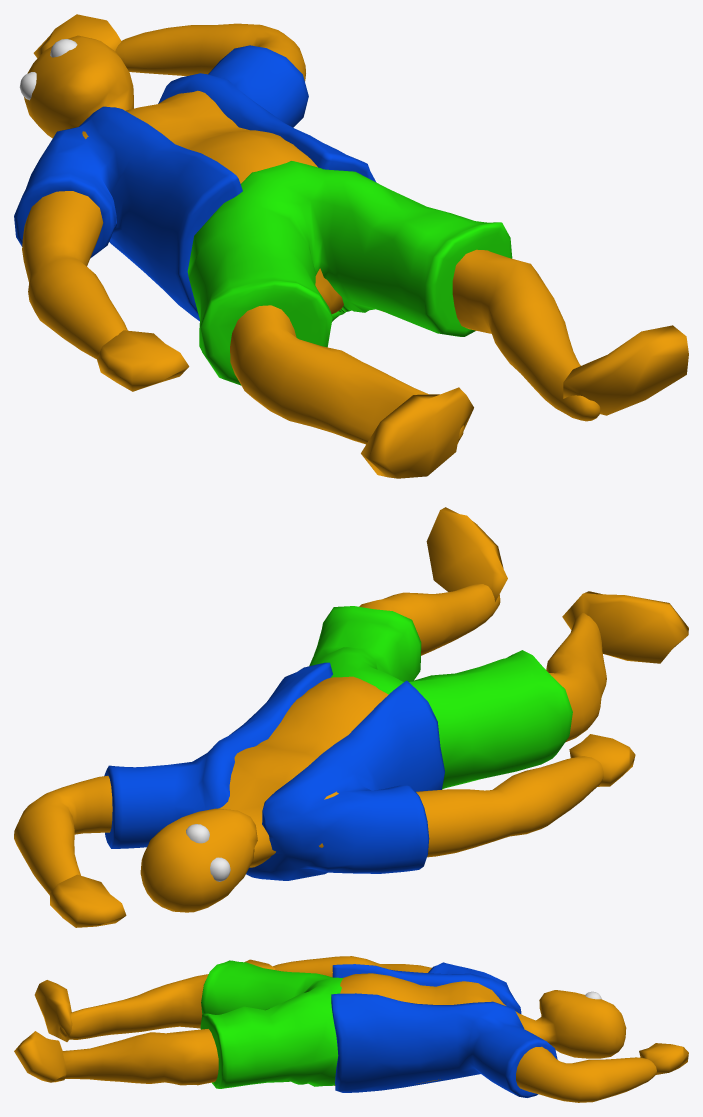
Rendered from cadavre.fbx.
The picture shows the model from 3 angles, top to bottom: view 1: azimuth 30°, elevation 25°; view 2: azimuth 150°, elevation 25°; view 3: azimuth 270°, elevation 25°; orthographic projection. The views are drawn at different scales.
Visible parts, largest first — view 1: PM3D_Cylinder3D_6, PM3D_Cube3D3, PM3D_Cube3D1, PM3D_Sphere3D1; view 2: PM3D_Cylinder3D_6, PM3D_Cube3D1, PM3D_Cube3D3, PM3D_Sphere3D1; view 3: PM3D_Cylinder3D_6, PM3D_Cube3D1, PM3D_Cube3D3.
Boxes of the visible parts, bbox=[...] form: PM3D_Cylinder3D_6: bbox=[22, 14, 688, 478]; PM3D_Cube3D3: bbox=[187, 161, 512, 385]; PM3D_Cube3D1: bbox=[14, 45, 376, 321]; PM3D_Sphere3D1: bbox=[19, 39, 77, 100]; PM3D_Cylinder3D_6: bbox=[14, 507, 688, 927]; PM3D_Cube3D1: bbox=[104, 662, 444, 880]; PM3D_Cube3D3: bbox=[309, 606, 572, 789]; PM3D_Sphere3D1: bbox=[186, 824, 230, 881]; PM3D_Cylinder3D_6: bbox=[14, 956, 688, 1102]; PM3D_Cube3D1: bbox=[331, 962, 557, 1097]; PM3D_Cube3D3: bbox=[200, 960, 343, 1088].
Bounding box in the file's own units: 1185 × 437 × 2481.
